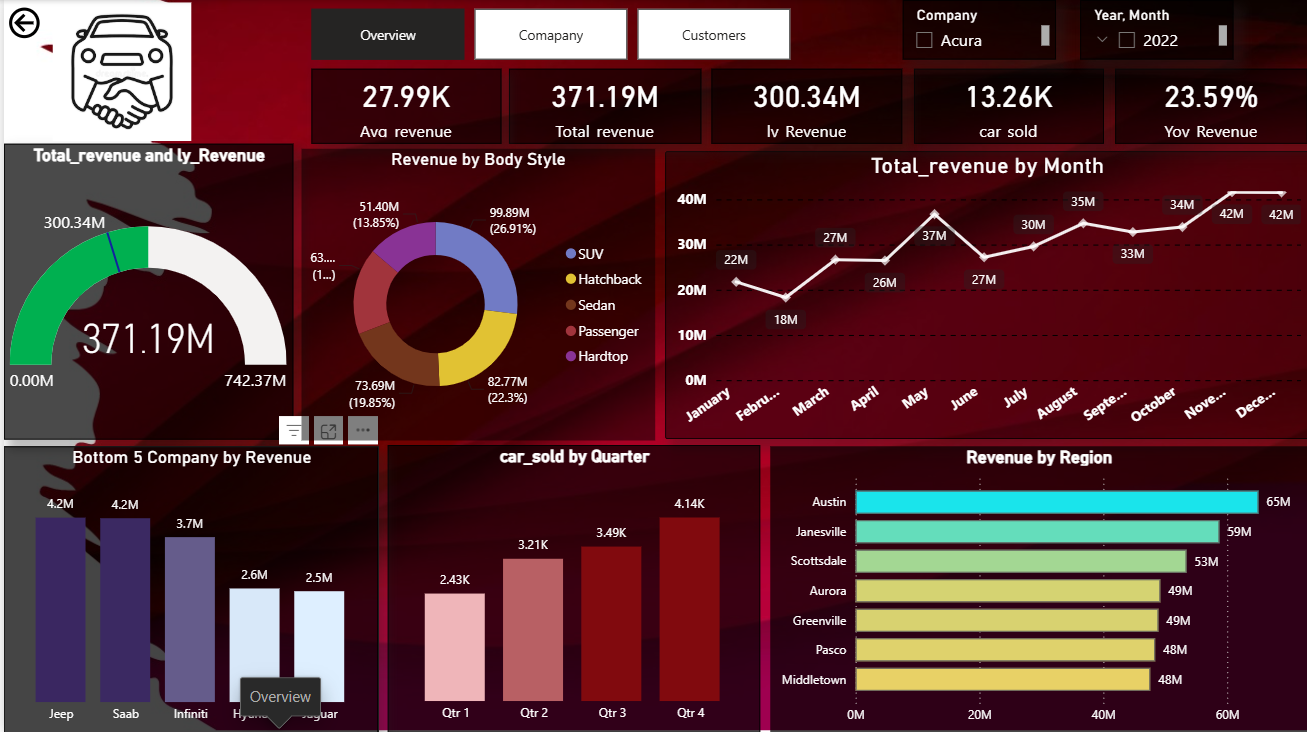

This screenshot's page, from the dashboard's own definition file:
{"tool":"powerbi","page":{"name":"Overview","canvas":[1280,720],"ordinal":1},"visuals":[{"type":"lineChart","fields":{"Y":["Calculation.Total_revenue"],"Category":["Date tbl.Date.Variation.Date Hierarchy.Month"]},"box":[648.8,148.8,631.2,282.5],"z":0},{"type":"columnChart","fields":{"Category":["Date tbl.Date.Variation.Date Hierarchy.Quarter"],"Y":["Calculation.car_sold"]},"box":[376.5,437,365.4,282.7],"z":1000},{"type":"card","fields":{"Values":["Calculation.car_sold"]},"box":[893.8,67.5,186.2,73.8],"z":2000},{"type":"card","fields":{"Values":["Calculation.Total_revenue"]},"box":[496.2,67.5,188.8,73.8],"z":3000},{"type":"card","fields":{"Values":["Calculation.Avg_revenue"]},"box":[301.2,67.5,186.2,73.8],"z":4000},{"type":"card","fields":{"Values":["Calculation.ly_Revenue"]},"box":[695,67.5,187.5,73.8],"z":5000},{"type":"actionButton","box":[0,2.5,47.5,40],"z":6000},{"type":"gauge","fields":{"Y":["Calculation.Total_revenue"],"TargetValue":["Calculation.ly_Revenue"]},"box":[0,141.2,283.8,290],"z":7000},{"type":"card","fields":{"Values":["Calculation.Yoy_Revenue"]},"box":[1091.2,67.5,188.8,73.8],"z":8000},{"type":"columnChart","title":"Bottom 5 Company by Revenue","fields":{"Y":["Calculation.Total_revenue"],"Category":["Company tbl.Company"]},"box":[0,437.5,367.5,282.5],"z":9000},{"type":"slicer","fields":{"Values":["Company tbl.Company"]},"box":[882.5,0,150,58.8],"z":10000},{"type":"donutChart","title":"Revenue by Body Style","fields":{"Y":["Calculation.Total_revenue"],"Category":["Company tbl.Body Style"]},"box":[292.5,146.2,347.5,286.2],"z":11000},{"type":"clusteredBarChart","title":"Revenue by Region","fields":{"Y":["Calculation.Total_revenue"],"Category":["Dealer tbl.Dealer Region"]},"box":[751.9,438.3,528.4,281.5],"z":12000},{"type":"slicer","fields":{"Values":["Date tbl.Date.Variation.Date Hierarchy.Year","Date tbl.Date.Variation.Date Hierarchy.Month"]},"box":[1056.2,0,150,58.8],"z":13000},{"type":"image","box":[47.5,0,136.2,141.2],"z":14000},{"type":"pageNavigator","box":[301.2,8.8,472.5,50],"z":15000}]}

Visuals, with their boxes in screenshot pixels (x1, y1, x2, y2), scaled from the page's 1280x720 canvas onto the 1307x732 screenshot:
lineChart - Calculation.Total_revenue x Date tbl.Date.Variation.Date Hierarchy.Month: 662,151,1306,438
columnChart - Date tbl.Date.Variation.Date Hierarchy.Quarter x Calculation.car_sold: 384,444,758,731
card - Calculation.car_sold: 913,69,1103,144
card - Calculation.Total_revenue: 507,69,699,144
card - Calculation.Avg_revenue: 308,69,498,144
card - Calculation.ly_Revenue: 710,69,901,144
actionButton: 0,3,49,43
gauge - Calculation.Total_revenue x Calculation.ly_Revenue: 0,144,290,438
card - Calculation.Yoy_Revenue: 1114,69,1306,144
"Bottom 5 Company by Revenue" columnChart: 0,445,375,731
slicer - Company tbl.Company: 901,0,1054,60
"Revenue by Body Style" donutChart: 299,149,654,440
"Revenue by Region" clusteredBarChart: 768,446,1306,731
slicer - Date tbl.Date.Variation.Date Hierarchy.Year x Date tbl.Date.Variation.Date Hierarchy.Month: 1078,0,1232,60
image: 49,0,188,144
pageNavigator: 308,9,790,60
